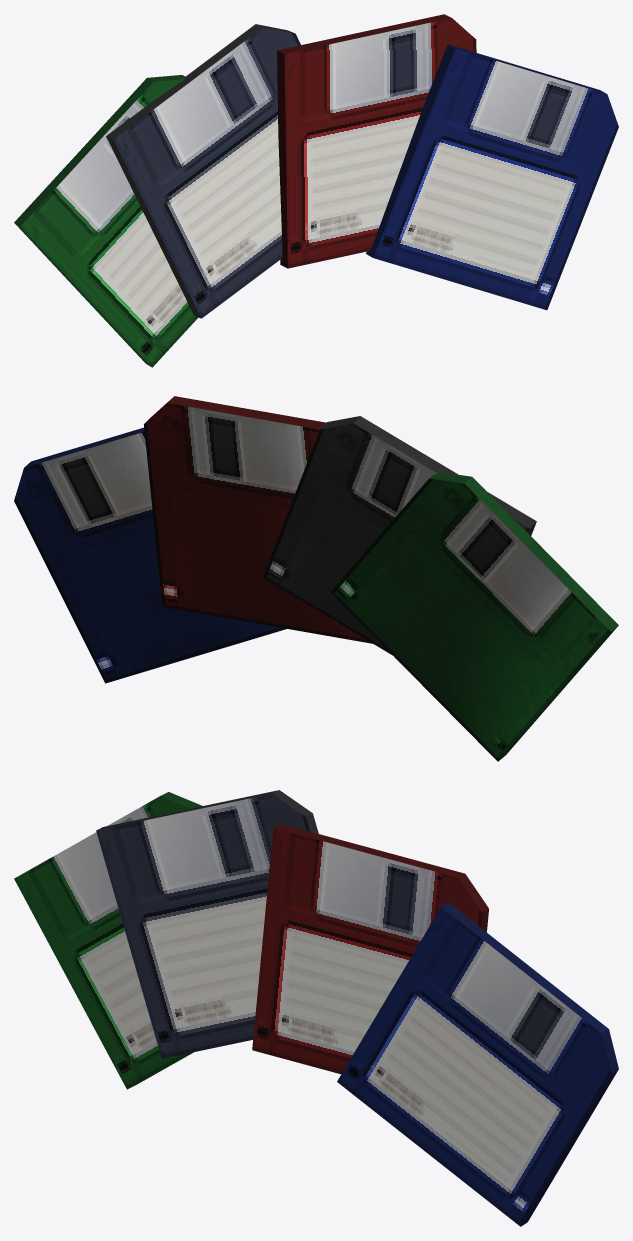
File: floppydisks.glb
The picture shows the model from 3 angles, top to bottom: view 1: azimuth 30°, elevation 25°; view 2: azimuth 150°, elevation 25°; view 3: azimuth 330°, elevation 25°; orthographic projection. The views are drawn at different scales.
Parts seen in each view (by area): view 1: FloppyDisk_Blue, FloppyDisk_Black, FloppyDisk_Red, FloppyDisk_Green; view 2: FloppyDisk_Green, FloppyDisk_Red, FloppyDisk_Blue, FloppyDisk_Black; view 3: FloppyDisk_Blue, FloppyDisk_Black, FloppyDisk_Red, FloppyDisk_Green.
Part boxes in pixels (x1,y1,x2,y2): FloppyDisk_Blue: (366, 44, 618, 310); FloppyDisk_Black: (106, 24, 300, 318); FloppyDisk_Red: (277, 14, 476, 268); FloppyDisk_Green: (14, 75, 198, 367); FloppyDisk_Green: (330, 472, 618, 761); FloppyDisk_Red: (144, 396, 372, 643); FloppyDisk_Blue: (14, 427, 286, 683); FloppyDisk_Black: (262, 416, 536, 655); FloppyDisk_Blue: (337, 902, 618, 1226); FloppyDisk_Black: (96, 790, 318, 1058); FloppyDisk_Red: (252, 823, 488, 1074); FloppyDisk_Green: (14, 792, 202, 1089).
Size of the model in its own units: 1.28 by 0.6892 by 0.128.
1 material, 1 textured.
